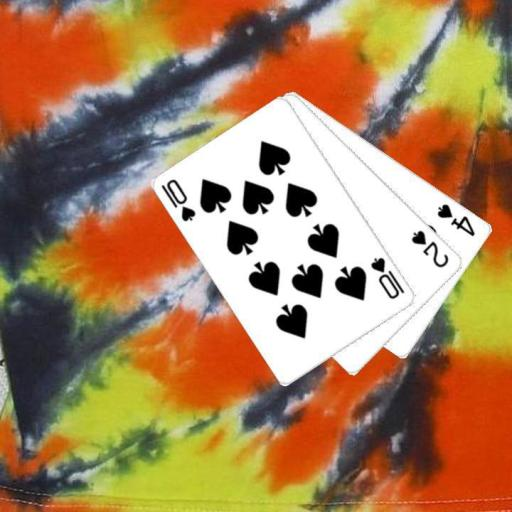card-corner: (158, 176, 198, 223), (408, 227, 451, 269), (368, 254, 406, 301), (435, 200, 477, 238)
